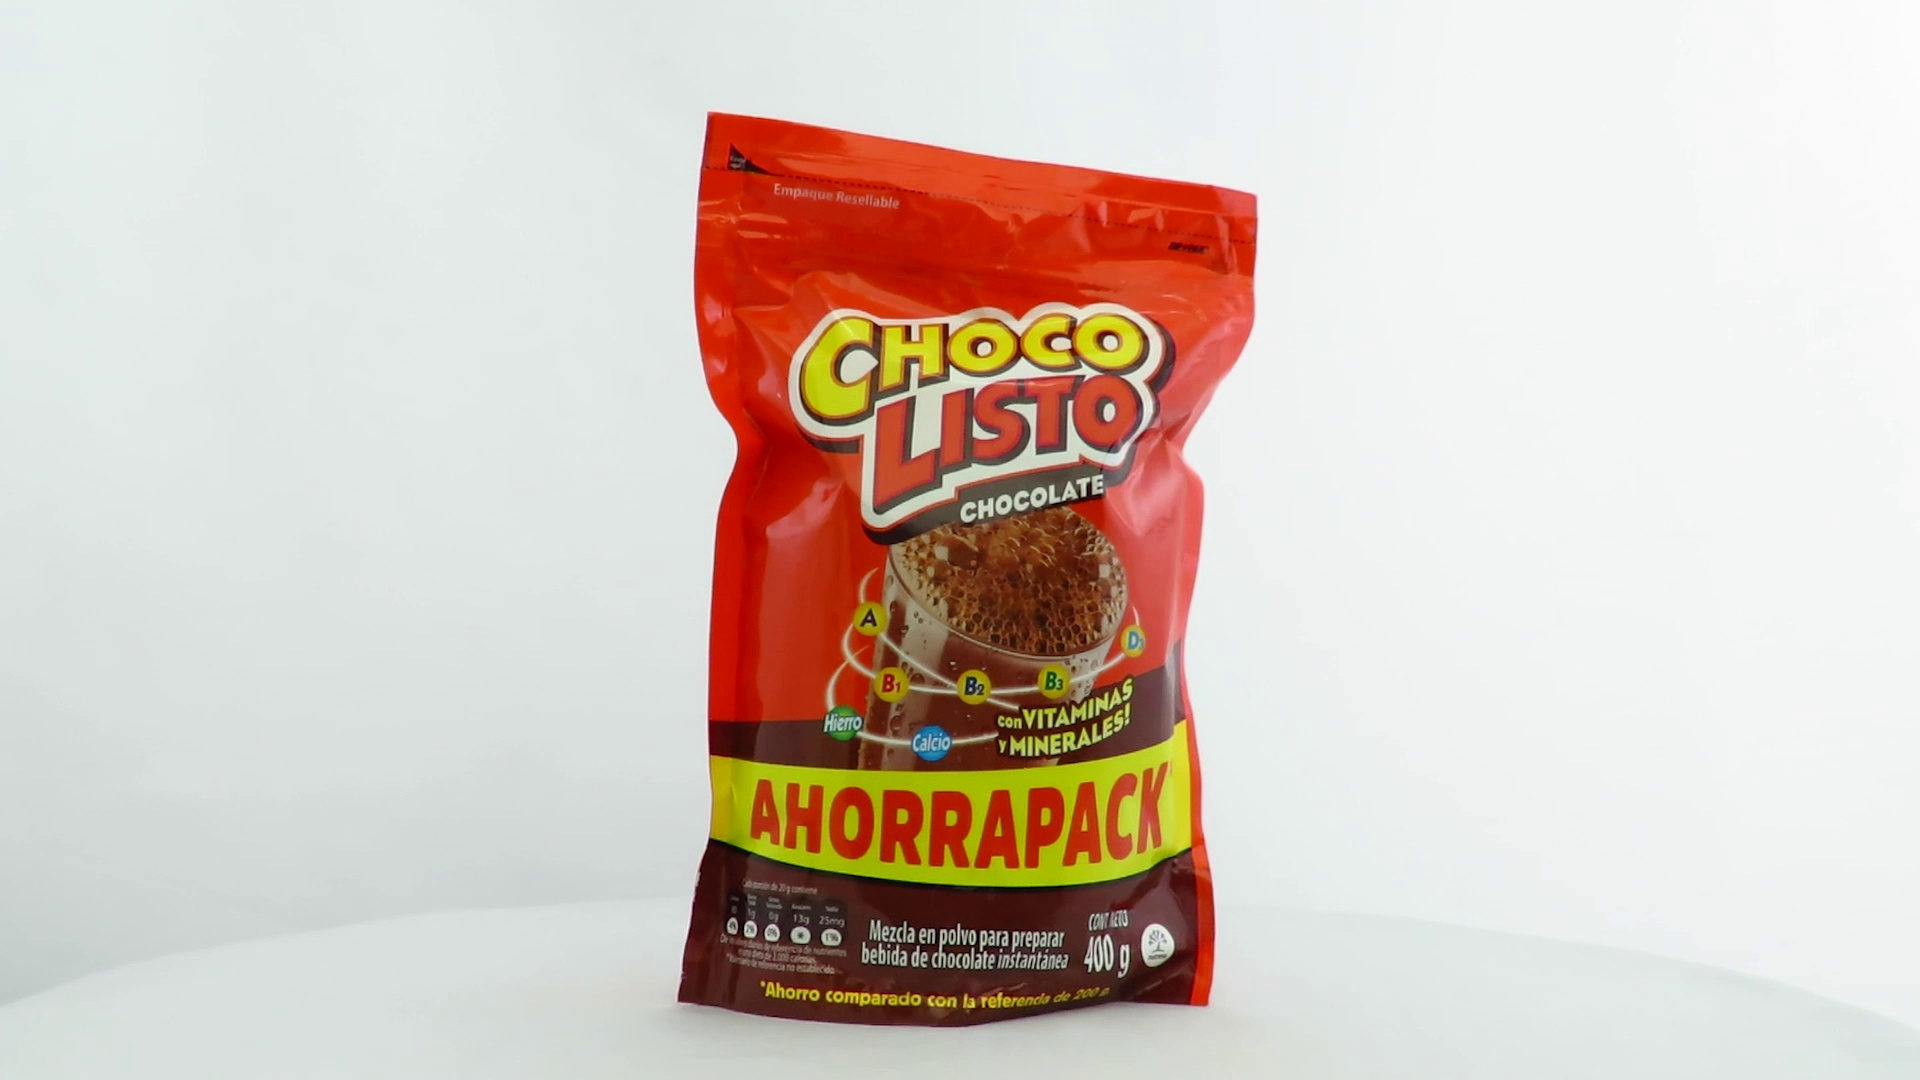COL0170103DYP40000: (673, 105, 1265, 1034)
